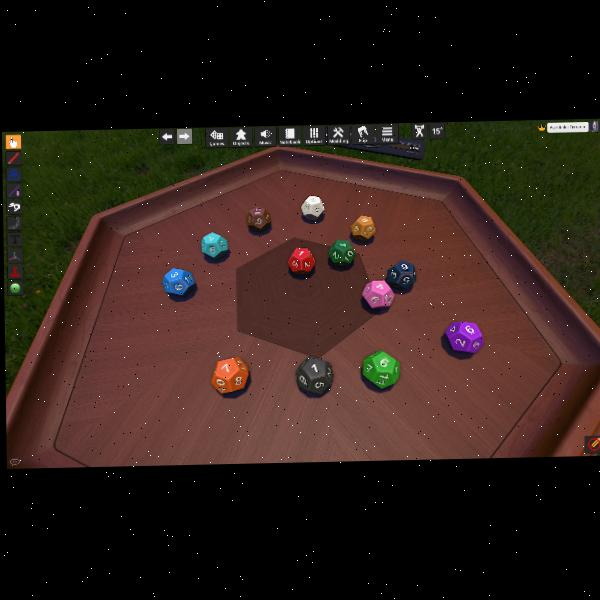d12: (362, 350, 401, 390), (295, 354, 332, 394), (212, 356, 249, 394), (444, 319, 482, 351), (163, 266, 195, 296), (386, 260, 416, 291), (361, 279, 392, 308), (200, 231, 227, 260), (288, 247, 314, 274), (350, 216, 375, 242), (329, 238, 353, 265), (247, 207, 272, 232), (300, 194, 324, 220)
